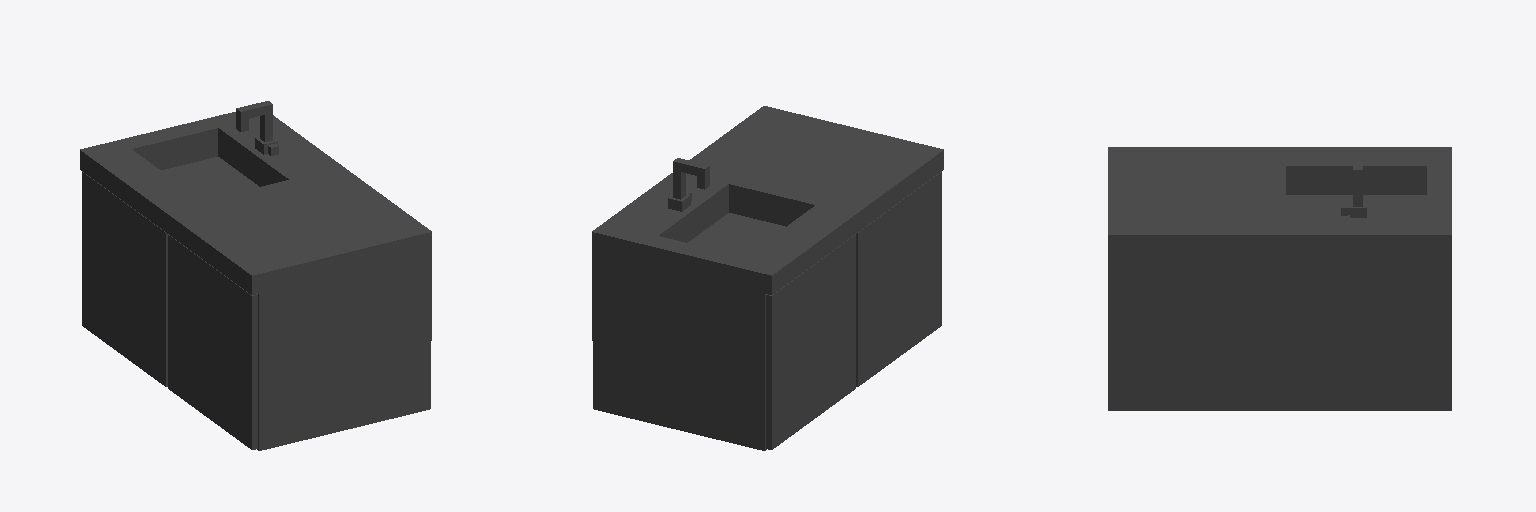
Rendered from Science_room_washdesk.obj.
3 views of the same model, side by side, from view 1: azimuth 30°, elevation 25°; view 2: azimuth 150°, elevation 25°; view 3: azimuth 270°, elevation 25° (orthographic).
Parts seen in each view (by area): view 1: Box012; view 2: Box012; view 3: Box012.
Part boxes in pixels (x1,y1,x2,y2): Box012: (80,101,431,450); Box012: (592,106,943,450); Box012: (1108,147,1451,410).
Bounding box in the file's own units: 1.13 × 1.34 × 1.87.